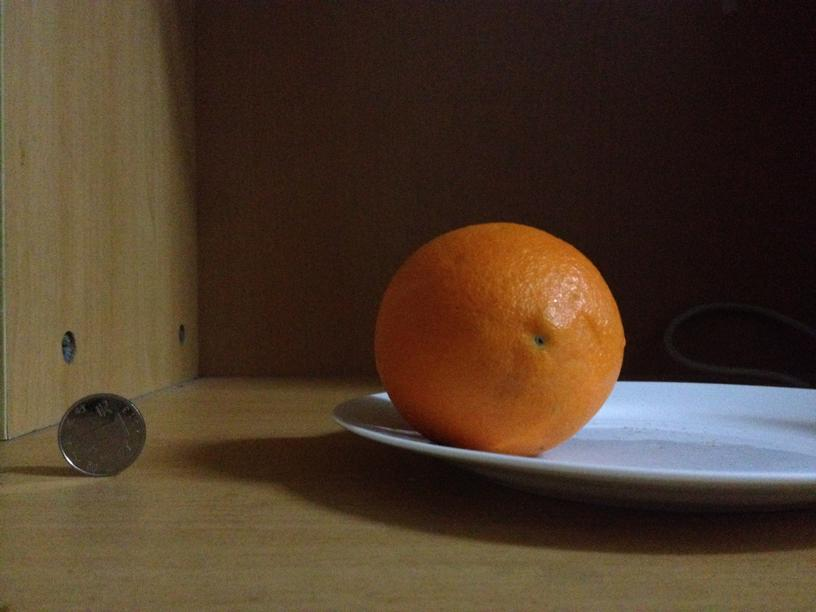coin: (58, 394, 146, 475)
orange: (378, 217, 626, 453)
